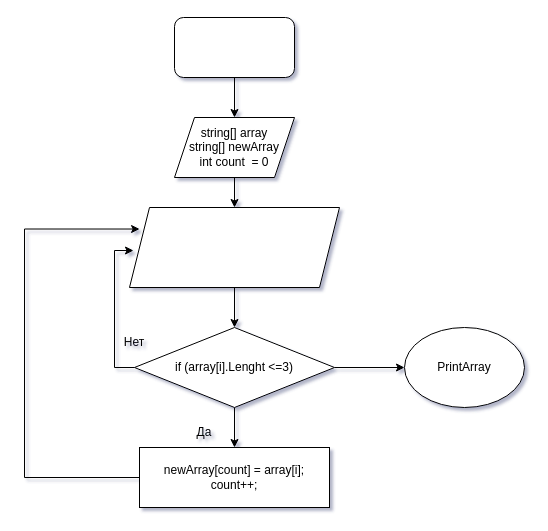
Some shapes in this 548 by 531 pixel diagram are drawn without their labels. The shapes that lost their labels are listed below. From the top down, each one's centre as x and y in pixels, then its label:
point (234, 47): PrimaryStringArray
point (234, 247): for (i = 0; i < array.Lenght; i++)
